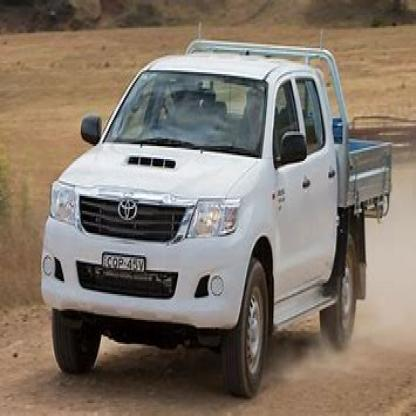light_vehicle: (32, 26, 392, 396)
